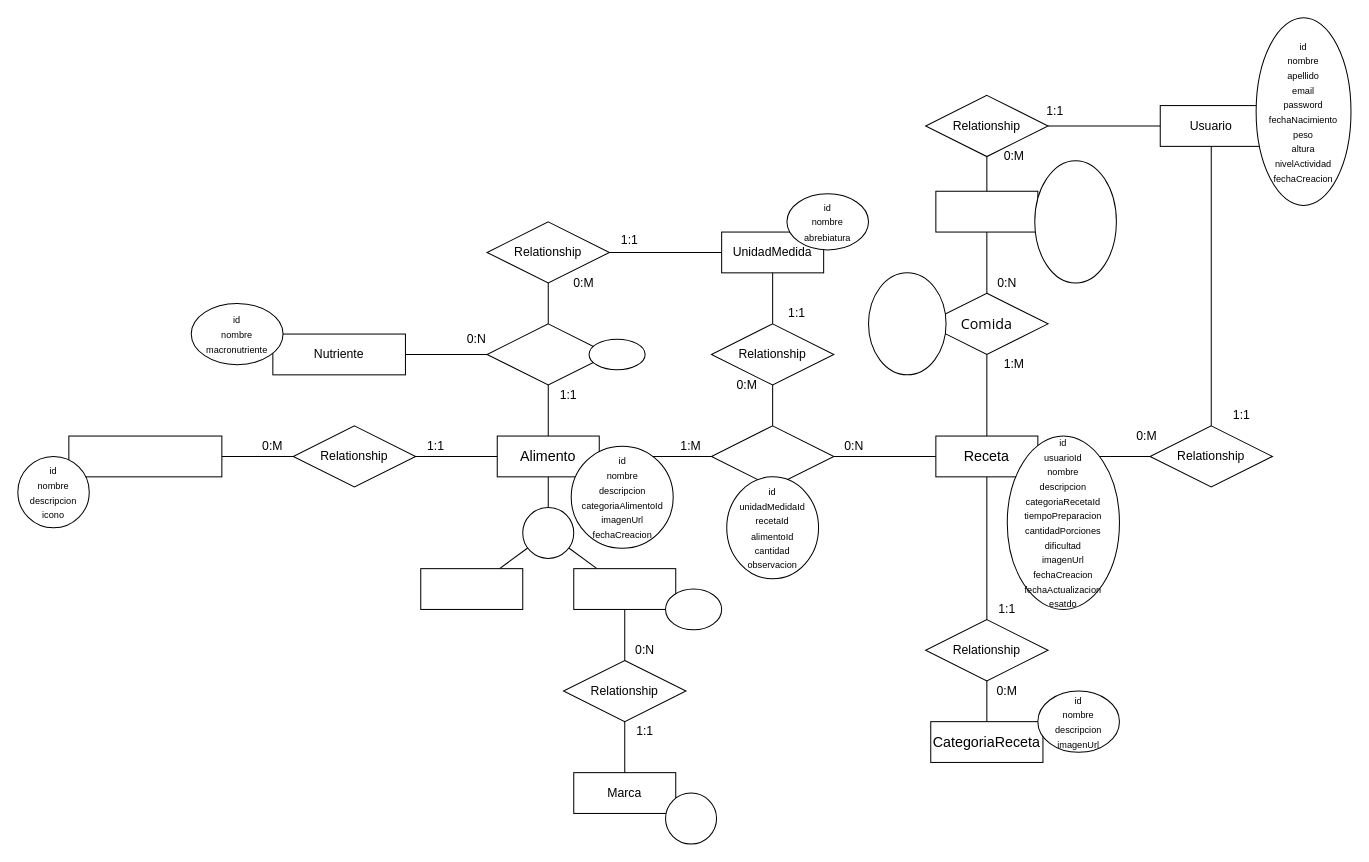
This 1369x862 diagram has some shape labels left out. The shapes that lost their labels are listed below. From the top down, each one's centre as x and y in pixels, then its label:
[986,211]: PlanSemanal
[1075,221]: id usuarioId nombre fechaInicio fechaFin fechaCreacion
[907,323]: id planSemanalId recetaId tipoComida porcionReceta fecha
[547,354]: Informacion Nutricional
[616,354]: cantidad
[145,456]: CategoriaAlimento
[772,456]: RecetaAlimento
[471,588]: AlimentoBase
[624,588]: Producto
[693,609]: pesoNeto
[691,818]: id nombre logoUrl
